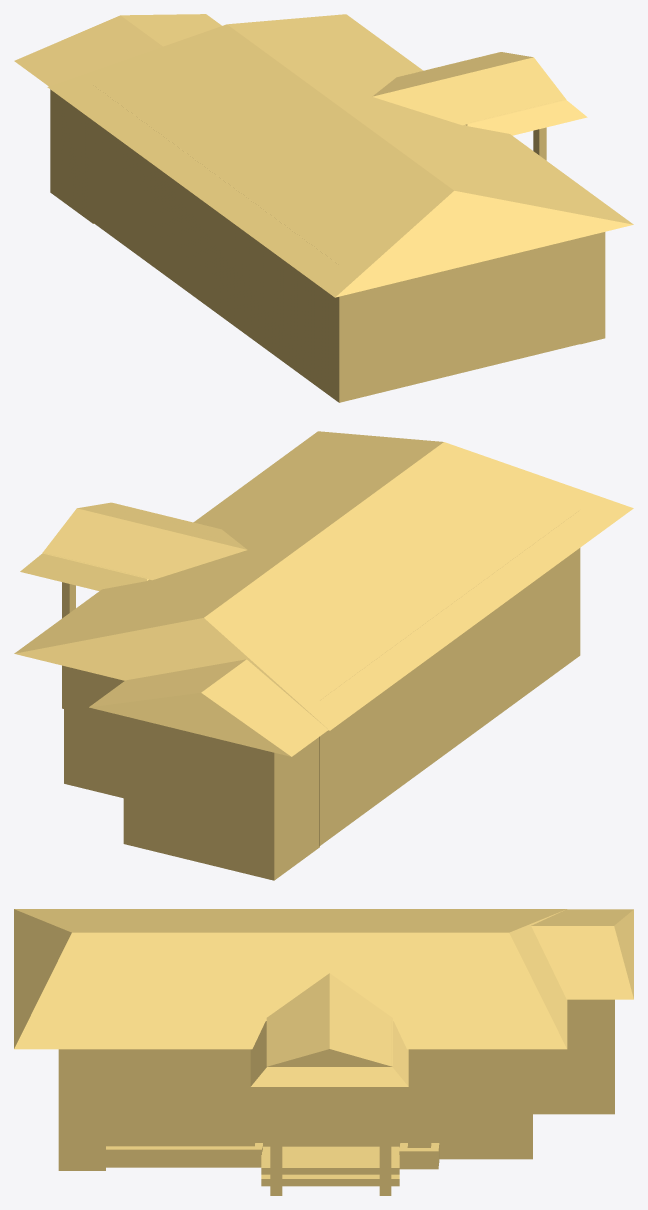
Rendered from MenDormNav.glb.
The picture shows the model from 3 angles, top to bottom: view 1: azimuth 30°, elevation 25°; view 2: azimuth 150°, elevation 25°; view 3: azimuth 270°, elevation 25°; orthographic projection. The views are drawn at different scales.
Parts seen in each view (by area): view 1: Cube.002; view 2: Cube.002; view 3: Cube.002.
Boxes of the visible parts, x1,y1,x2,y2 form: Cube.002: (14,14,633,402); Cube.002: (14,431,633,880); Cube.002: (14,909,633,1195).
Size of the model in its own units: 10.56 by 4.8 by 15.69.
